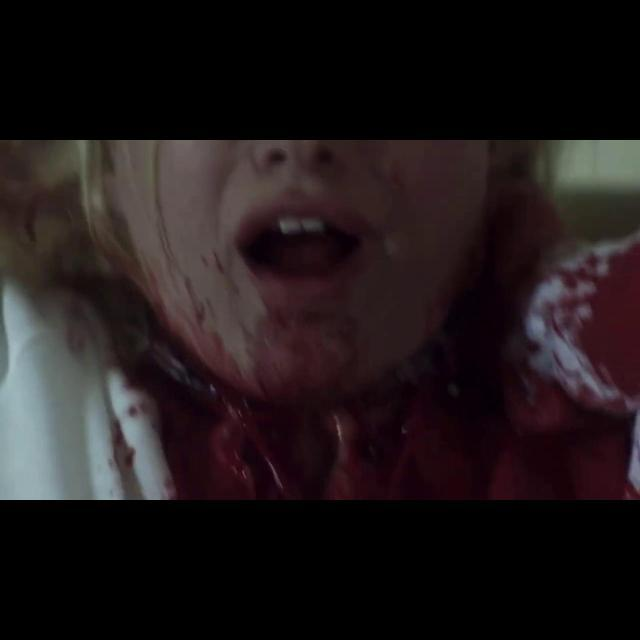blood: (74, 178, 640, 499), (213, 250, 224, 272)
